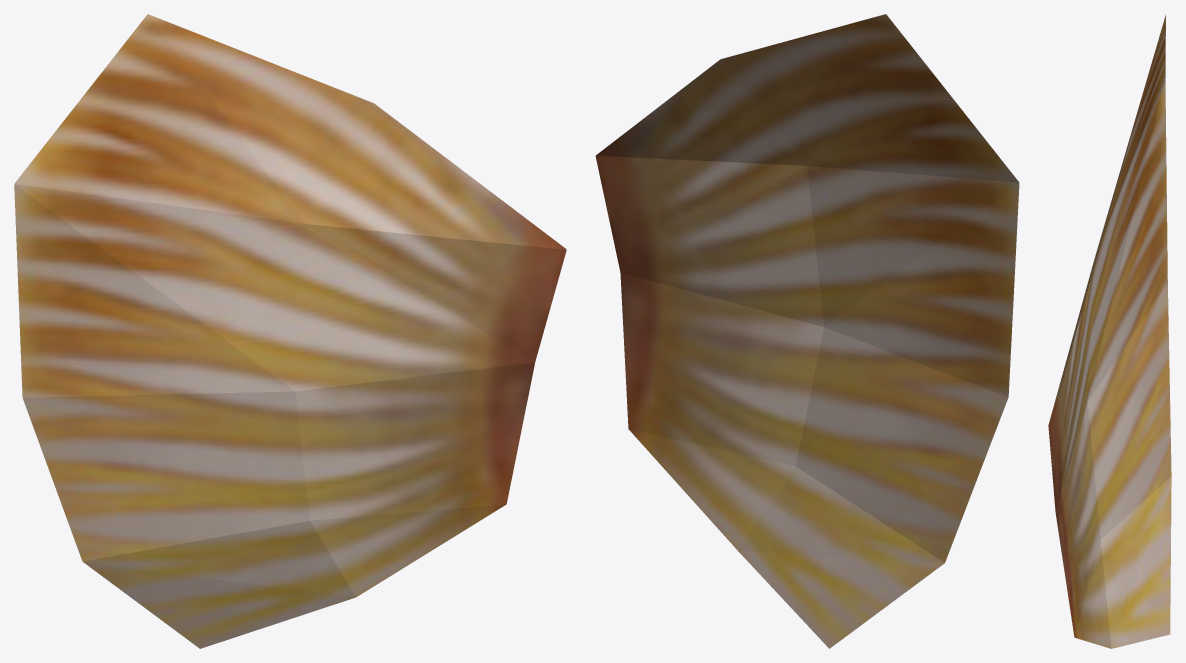
The model's file is PufferIzq.obj.
The picture shows the model from 3 angles, left to right: view 1: azimuth 30°, elevation 25°; view 2: azimuth 150°, elevation 25°; view 3: azimuth 270°, elevation 25°; orthographic projection. The views are drawn at different scales.
Parts seen in each view (by area): view 1: PufferDer:AletaDer; view 2: PufferDer:AletaDer; view 3: PufferDer:AletaDer.
Boxes of the visible parts, box(x1,y1,x2,y2) form: PufferDer:AletaDer: box(14, 14, 566, 648); PufferDer:AletaDer: box(595, 14, 1019, 648); PufferDer:AletaDer: box(1048, 15, 1171, 648).
Size of the model in its own units: 0.1245 by 0.1581 by 0.0296.
2 materials, 2 textured.
